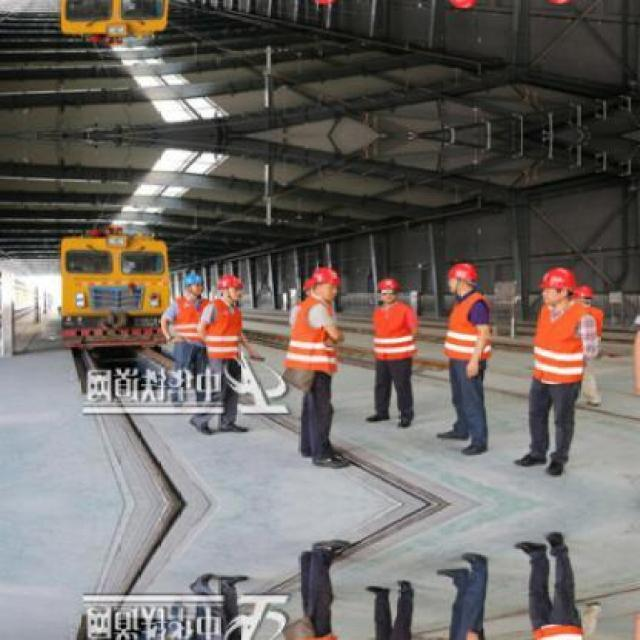reflective_jacket: (529, 302, 595, 388), (281, 297, 341, 379), (441, 291, 492, 363), (370, 301, 418, 364), (203, 297, 245, 364), (164, 294, 210, 347)
safety_helmet: (301, 263, 343, 291), (538, 265, 576, 294), (445, 260, 480, 286), (177, 266, 205, 291), (215, 271, 246, 292), (374, 274, 403, 294)
